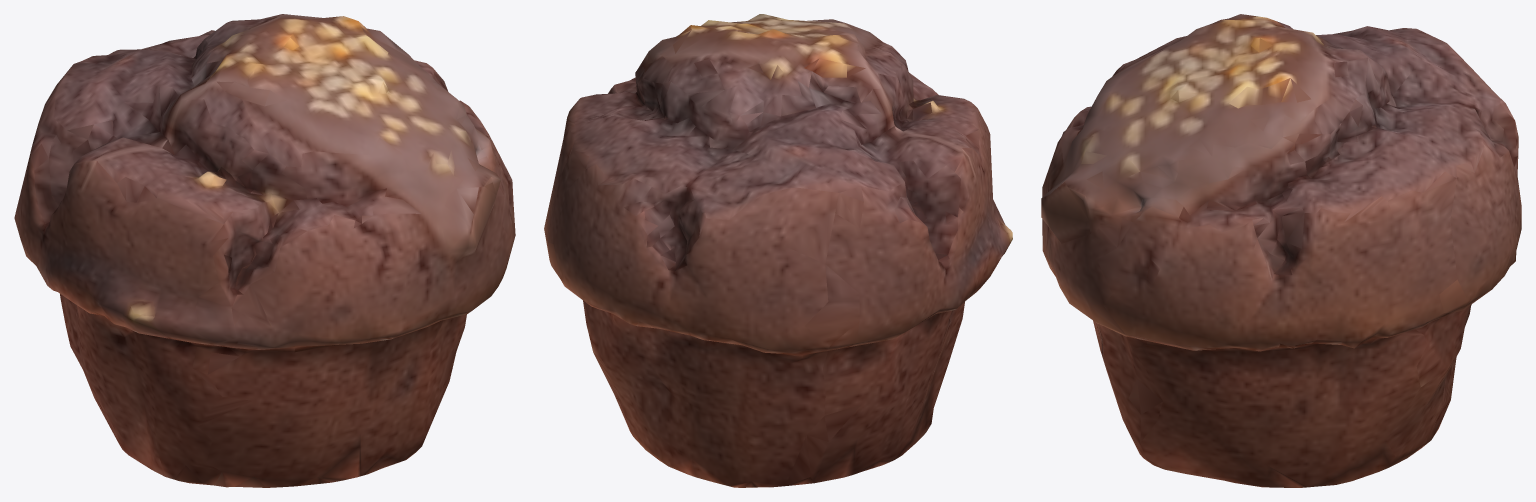
File: muffin_2152.obj
3 renders of one model, left to right at view 1: azimuth 30°, elevation 25°; view 2: azimuth 150°, elevation 25°; view 3: azimuth 270°, elevation 25°, orthographic. The views are drawn at different scales.
Size of the model in its own units: 14.27 by 12.99 by 14.34.
Materials: 1 (1 with a texture image).
